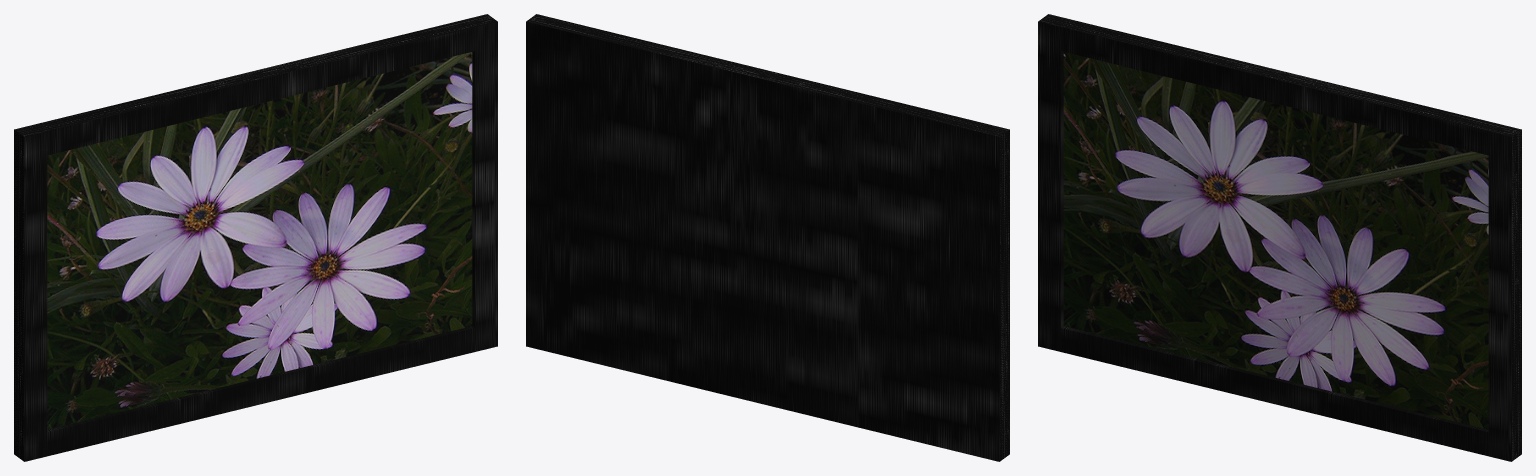
The model's file is picture_9.fbx.
3 views of the same model, side by side, from view 1: azimuth 30°, elevation 25°; view 2: azimuth 150°, elevation 25°; view 3: azimuth 330°, elevation 25° (orthographic).
Visible parts, largest first — view 1: picture_9; view 2: picture_9; view 3: picture_9.
Boxes of the visible parts, left/top/right/bottom form: picture_9: left=14, top=14, right=497, bottom=461; picture_9: left=526, top=14, right=1009, bottom=461; picture_9: left=1038, top=14, right=1521, bottom=461.
Bounding box in the file's own units: 0.9241 × 0.6061 × 0.035.
